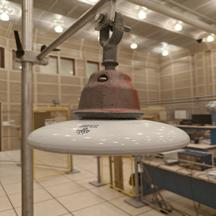insulator: (18, 64, 200, 166)
